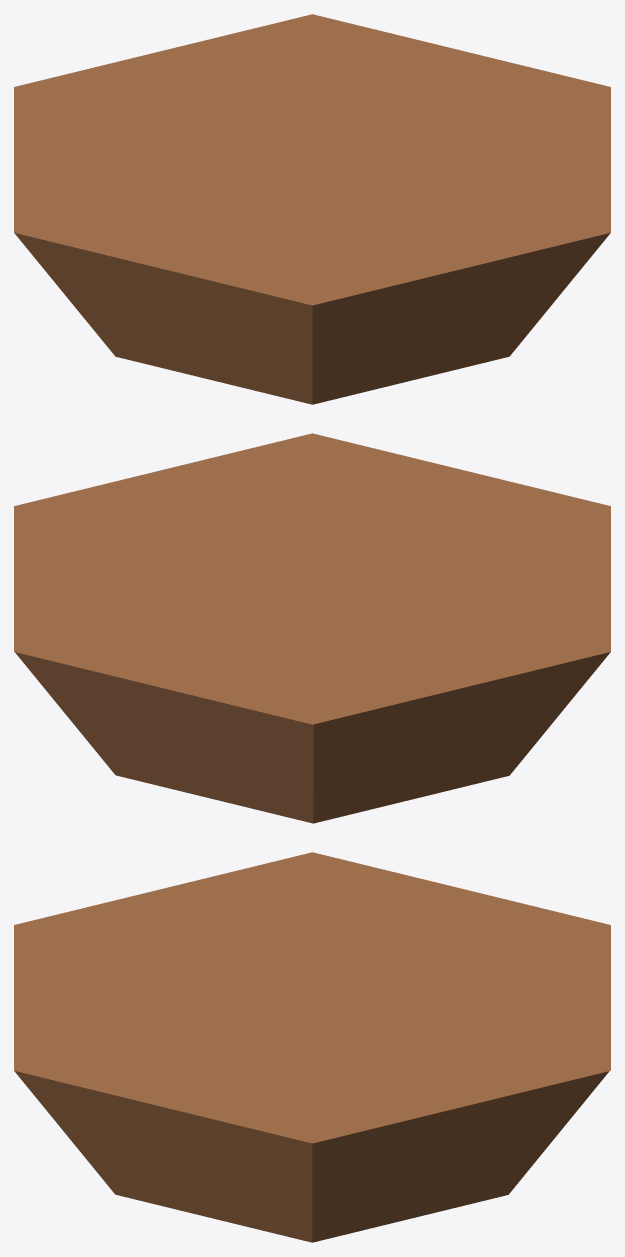
The model's file is lvl1_P_switch2_platform.glb.
The picture shows the model from 3 angles, top to bottom: view 1: azimuth 30°, elevation 25°; view 2: azimuth 150°, elevation 25°; view 3: azimuth 270°, elevation 25°; orthographic projection.
Visible parts, largest first — view 1: lvl1_platform_p_switch2; view 2: lvl1_platform_p_switch2; view 3: lvl1_platform_p_switch2.
Part boxes in pixels (bbox=[...]): lvl1_platform_p_switch2: bbox=[14, 14, 610, 404]; lvl1_platform_p_switch2: bbox=[14, 433, 610, 823]; lvl1_platform_p_switch2: bbox=[14, 852, 610, 1242].
Bounding box in the file's own units: 6 × 1.43 × 5.2.
1 material, 1 textured.
